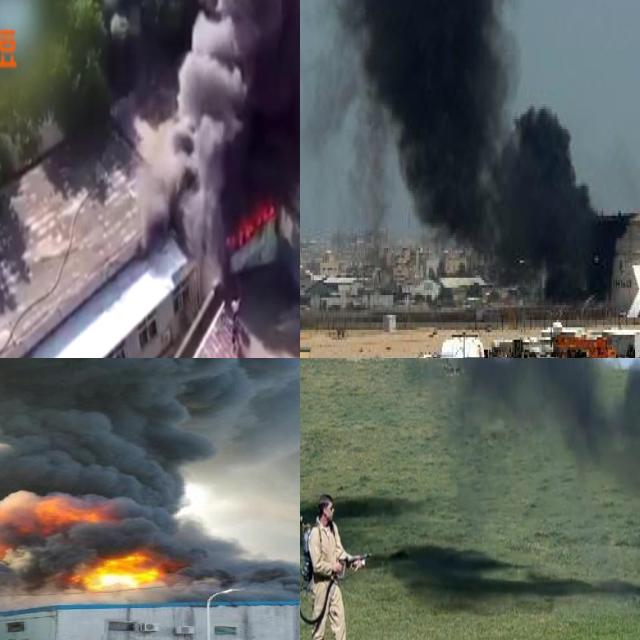fire: (74, 550, 165, 589), (228, 199, 275, 246)
smoke: (300, 0, 604, 305), (0, 358, 300, 617), (139, 0, 300, 239), (433, 358, 640, 520)
